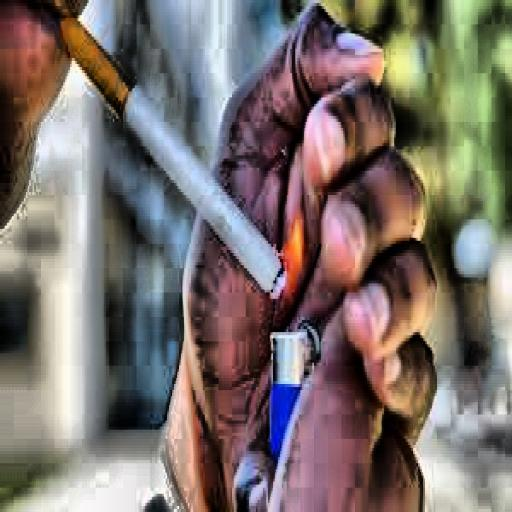fire: (270, 210, 318, 308)
